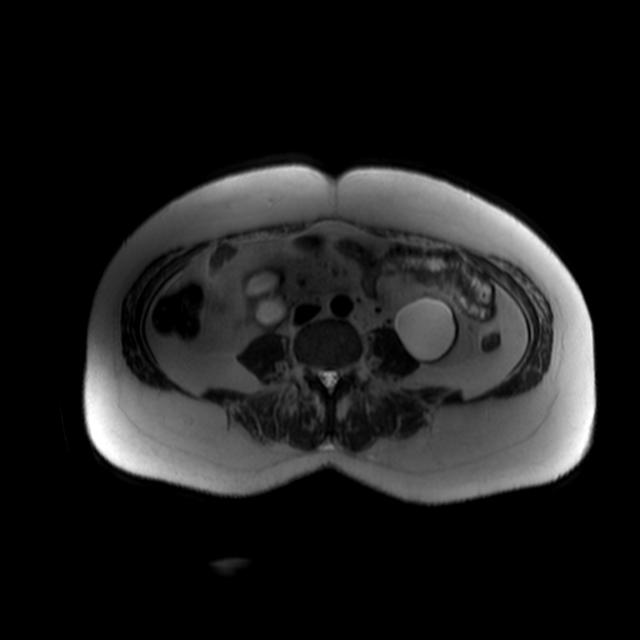sag: (243, 271, 292, 330)
sol: (390, 294, 457, 363)
